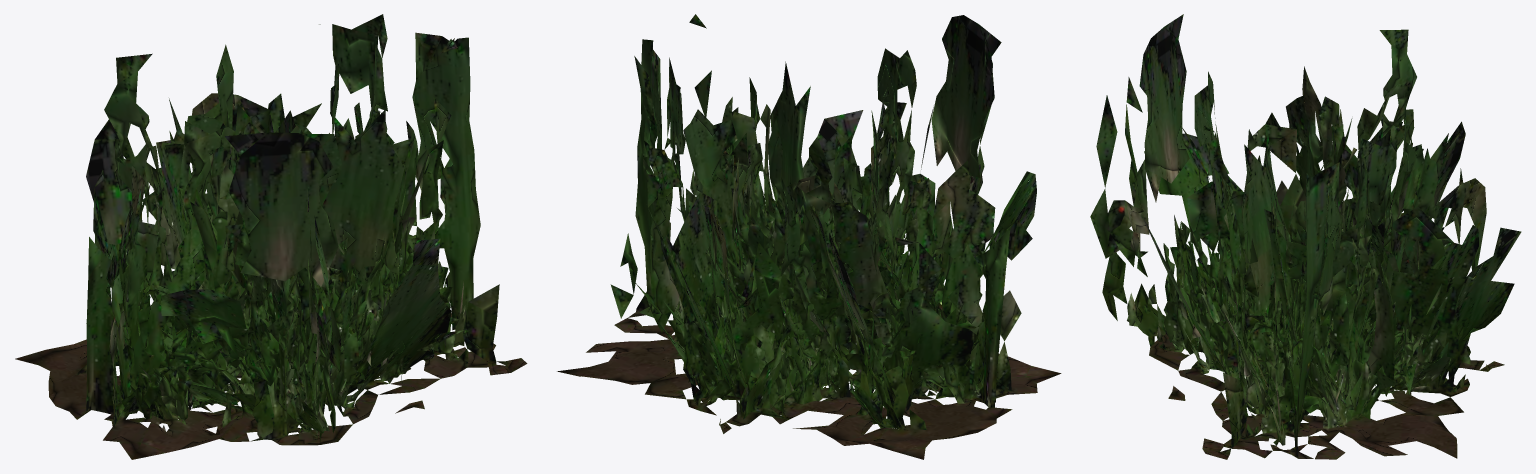
Rendered from grass_a.0.glb.
3 renders of one model, left to right at view 1: azimuth 30°, elevation 25°; view 2: azimuth 150°, elevation 25°; view 3: azimuth 270°, elevation 25°, orthographic. The views are drawn at different scales.
Visible parts, largest first — view 1: geometry_0; view 2: geometry_0; view 3: geometry_0.
Boxes of the visible parts, x1,y1,x2,y2 form: geometry_0: [15, 14, 527, 459]; geometry_0: [557, 14, 1061, 459]; geometry_0: [1090, 14, 1521, 459].
Size of the model in its own units: 0.925 by 0.7053 by 0.9043.
1 material, 1 textured.
